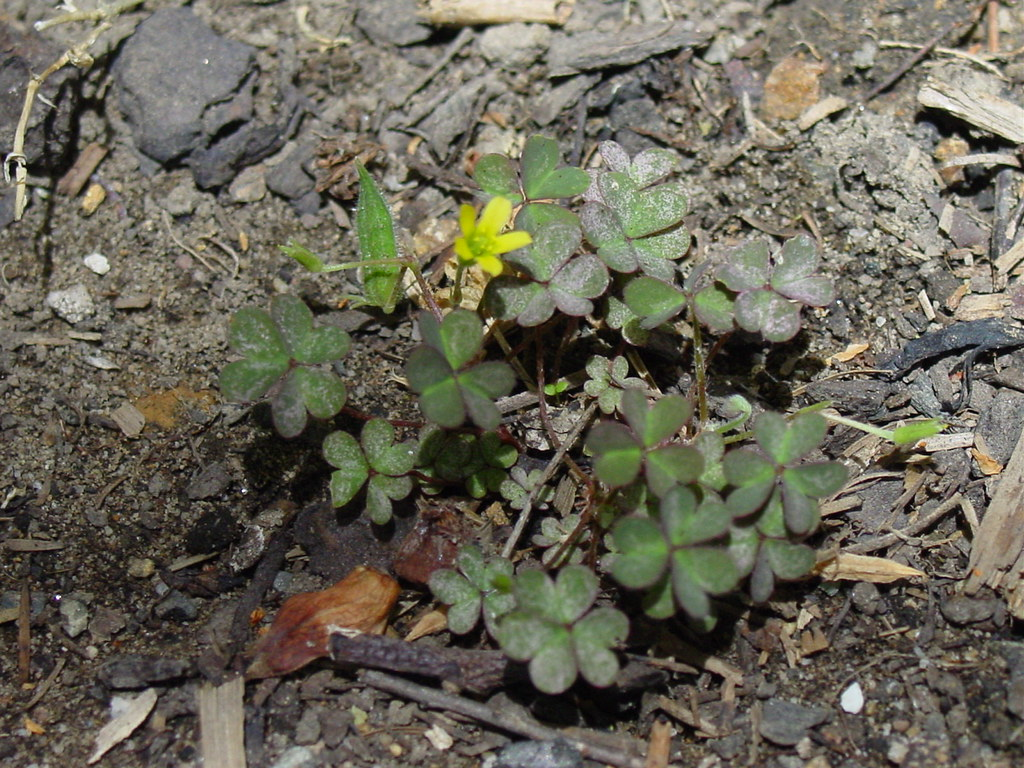oxalis: (233, 142, 874, 667)
